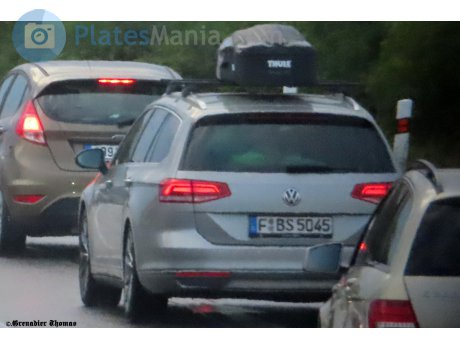License Plates: (258, 214, 331, 230)
